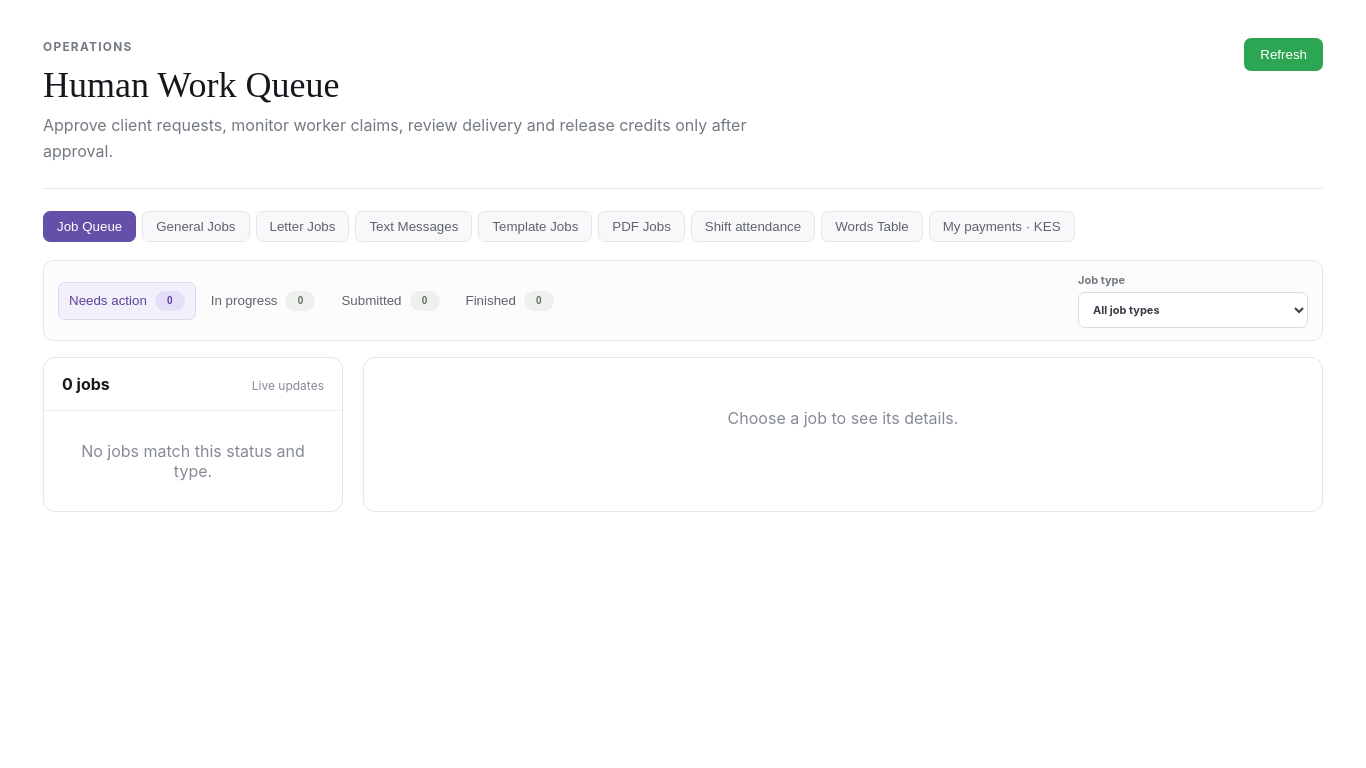
Human Work sub-admin sees only their own payment tab and shift reminder
Expected: the heading "Human Work Queue" is shown, 43,64 -> 339,104
Expected: the tab "Shift attendance" is shown, 691,212 -> 815,242
Click the tab "My payments · KES".
click(1002, 227)  # box 929,212 -> 1075,242
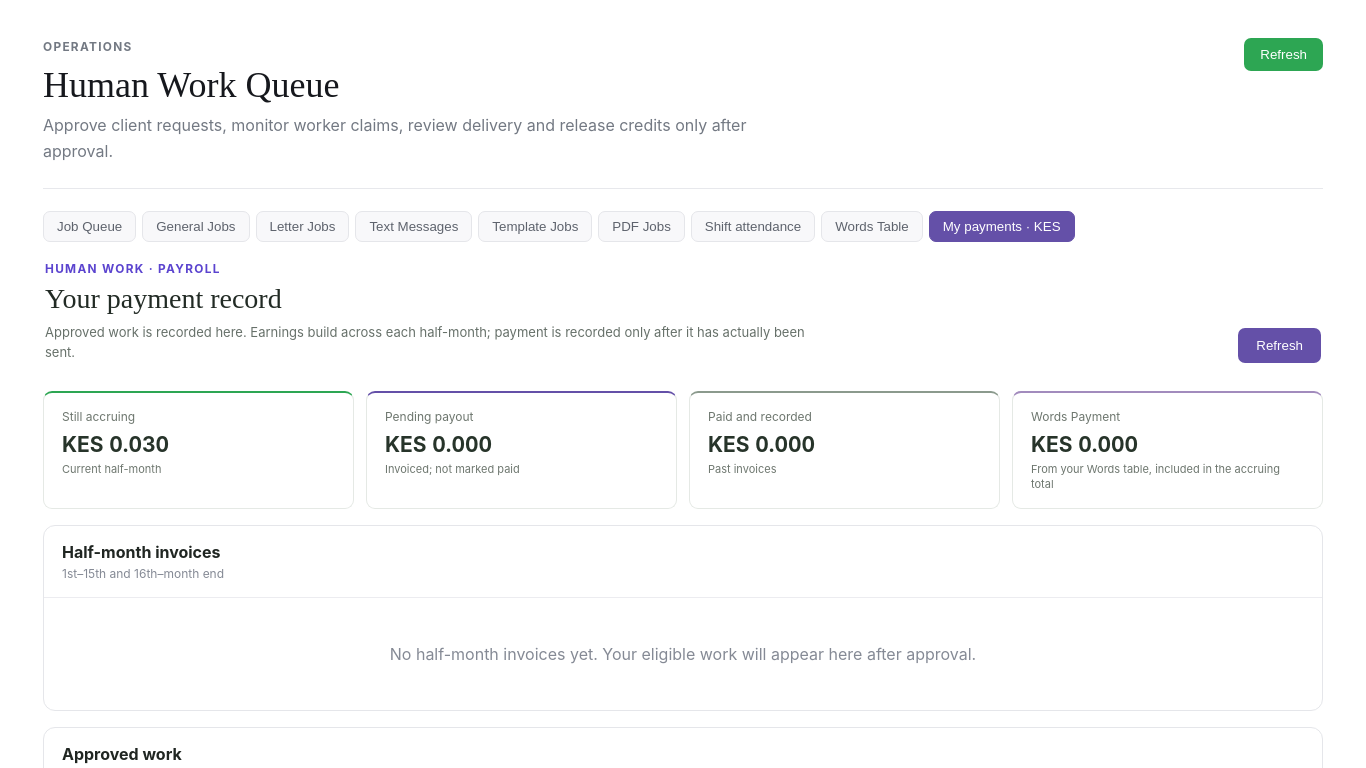
Expected: the heading "Your payment record" is shown, 45,284 -> 282,314
Expected: the text "KES 0.030" is shown 2 times
